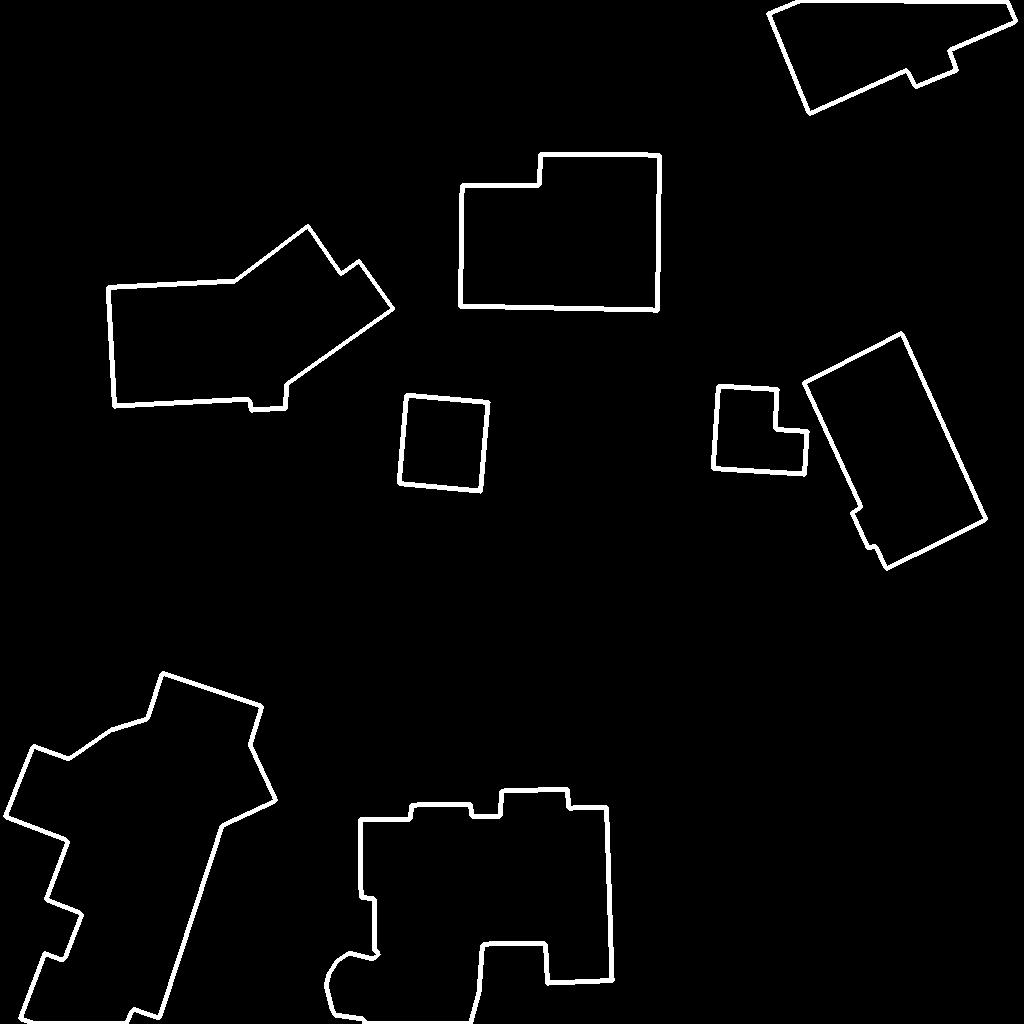building: (5, 673, 277, 1024), (326, 789, 613, 1024), (108, 226, 394, 411), (804, 333, 987, 570), (460, 154, 661, 311), (768, 0, 1017, 115), (399, 395, 489, 492), (713, 386, 808, 475)
